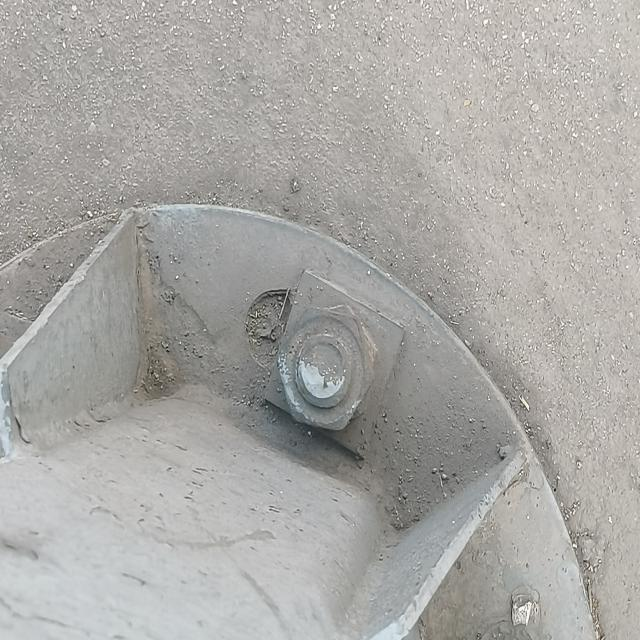bolt nut: (272, 304, 377, 434)
